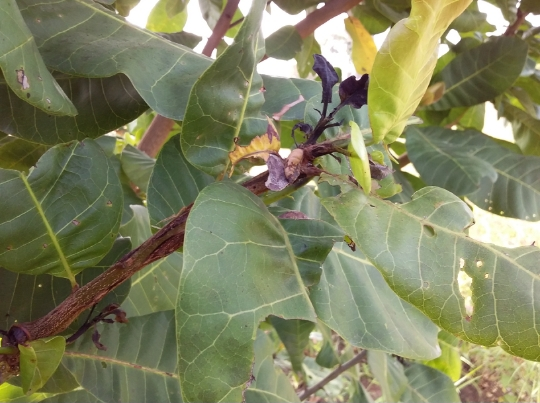Dessèchement des bourgeons: (310, 54, 370, 131), (266, 144, 311, 195), (274, 125, 322, 158), (81, 302, 127, 336)
